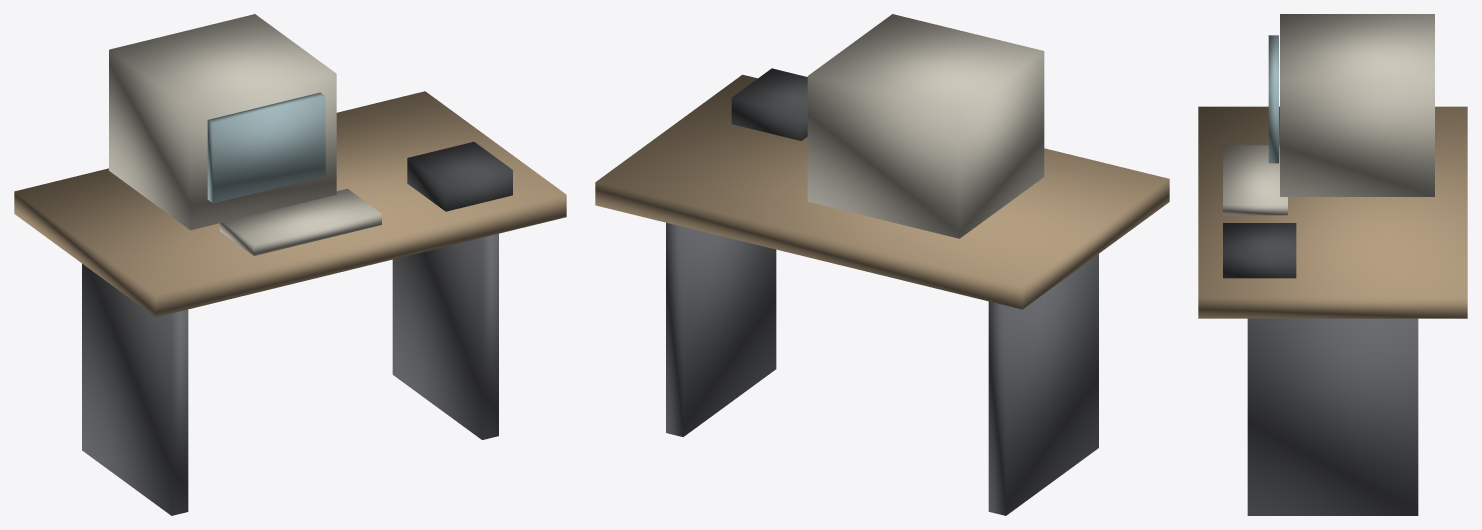
The model's file is crt_workstation__deep.glb.
The picture shows the model from 3 angles, left to right: view 1: azimuth 30°, elevation 25°; view 2: azimuth 150°, elevation 25°; view 3: azimuth 270°, elevation 25°; orthographic projection. The views are drawn at different scales.
Visible parts, largest first — view 1: world; view 2: world; view 3: world.
Part boxes in pixels (x1,y1,x2,y2): world: (14, 14, 566, 515); world: (595, 14, 1169, 515); world: (1198, 14, 1467, 515).
Size of the model in its own units: 1.35 by 1.21 by 0.8052.
